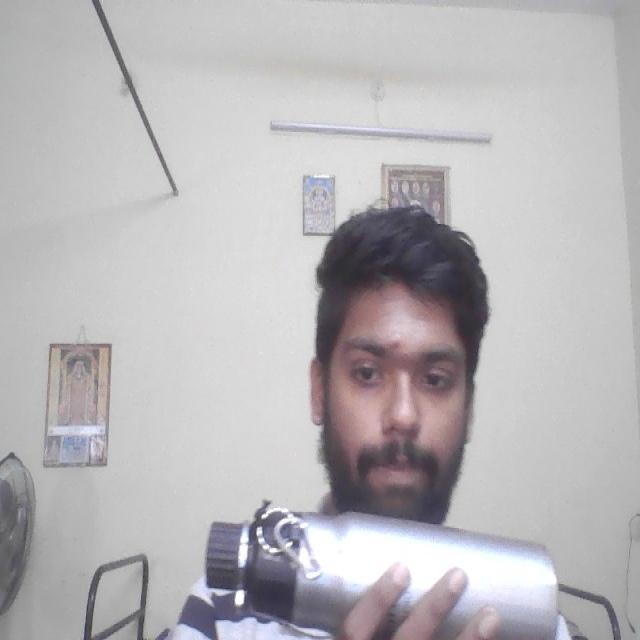Drinking: (199, 494, 566, 640)
